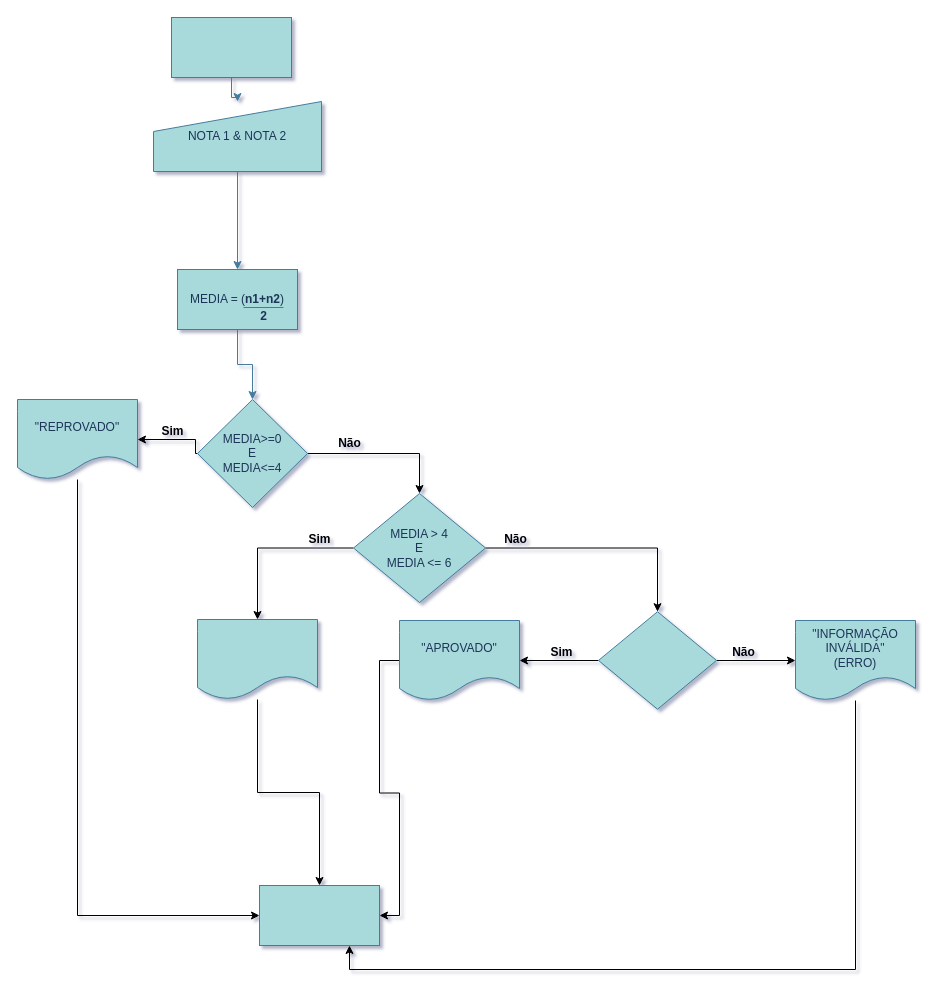
This 939x1001 diagram has some shape labels left out. Each missing label, with the centre of its shape:
"RECUPERAÇÃO": point 257,659
FIM: point 319,915
INICIO: point 231,47
MEDIA > 6 E MEDIA <=10: point 657,660
